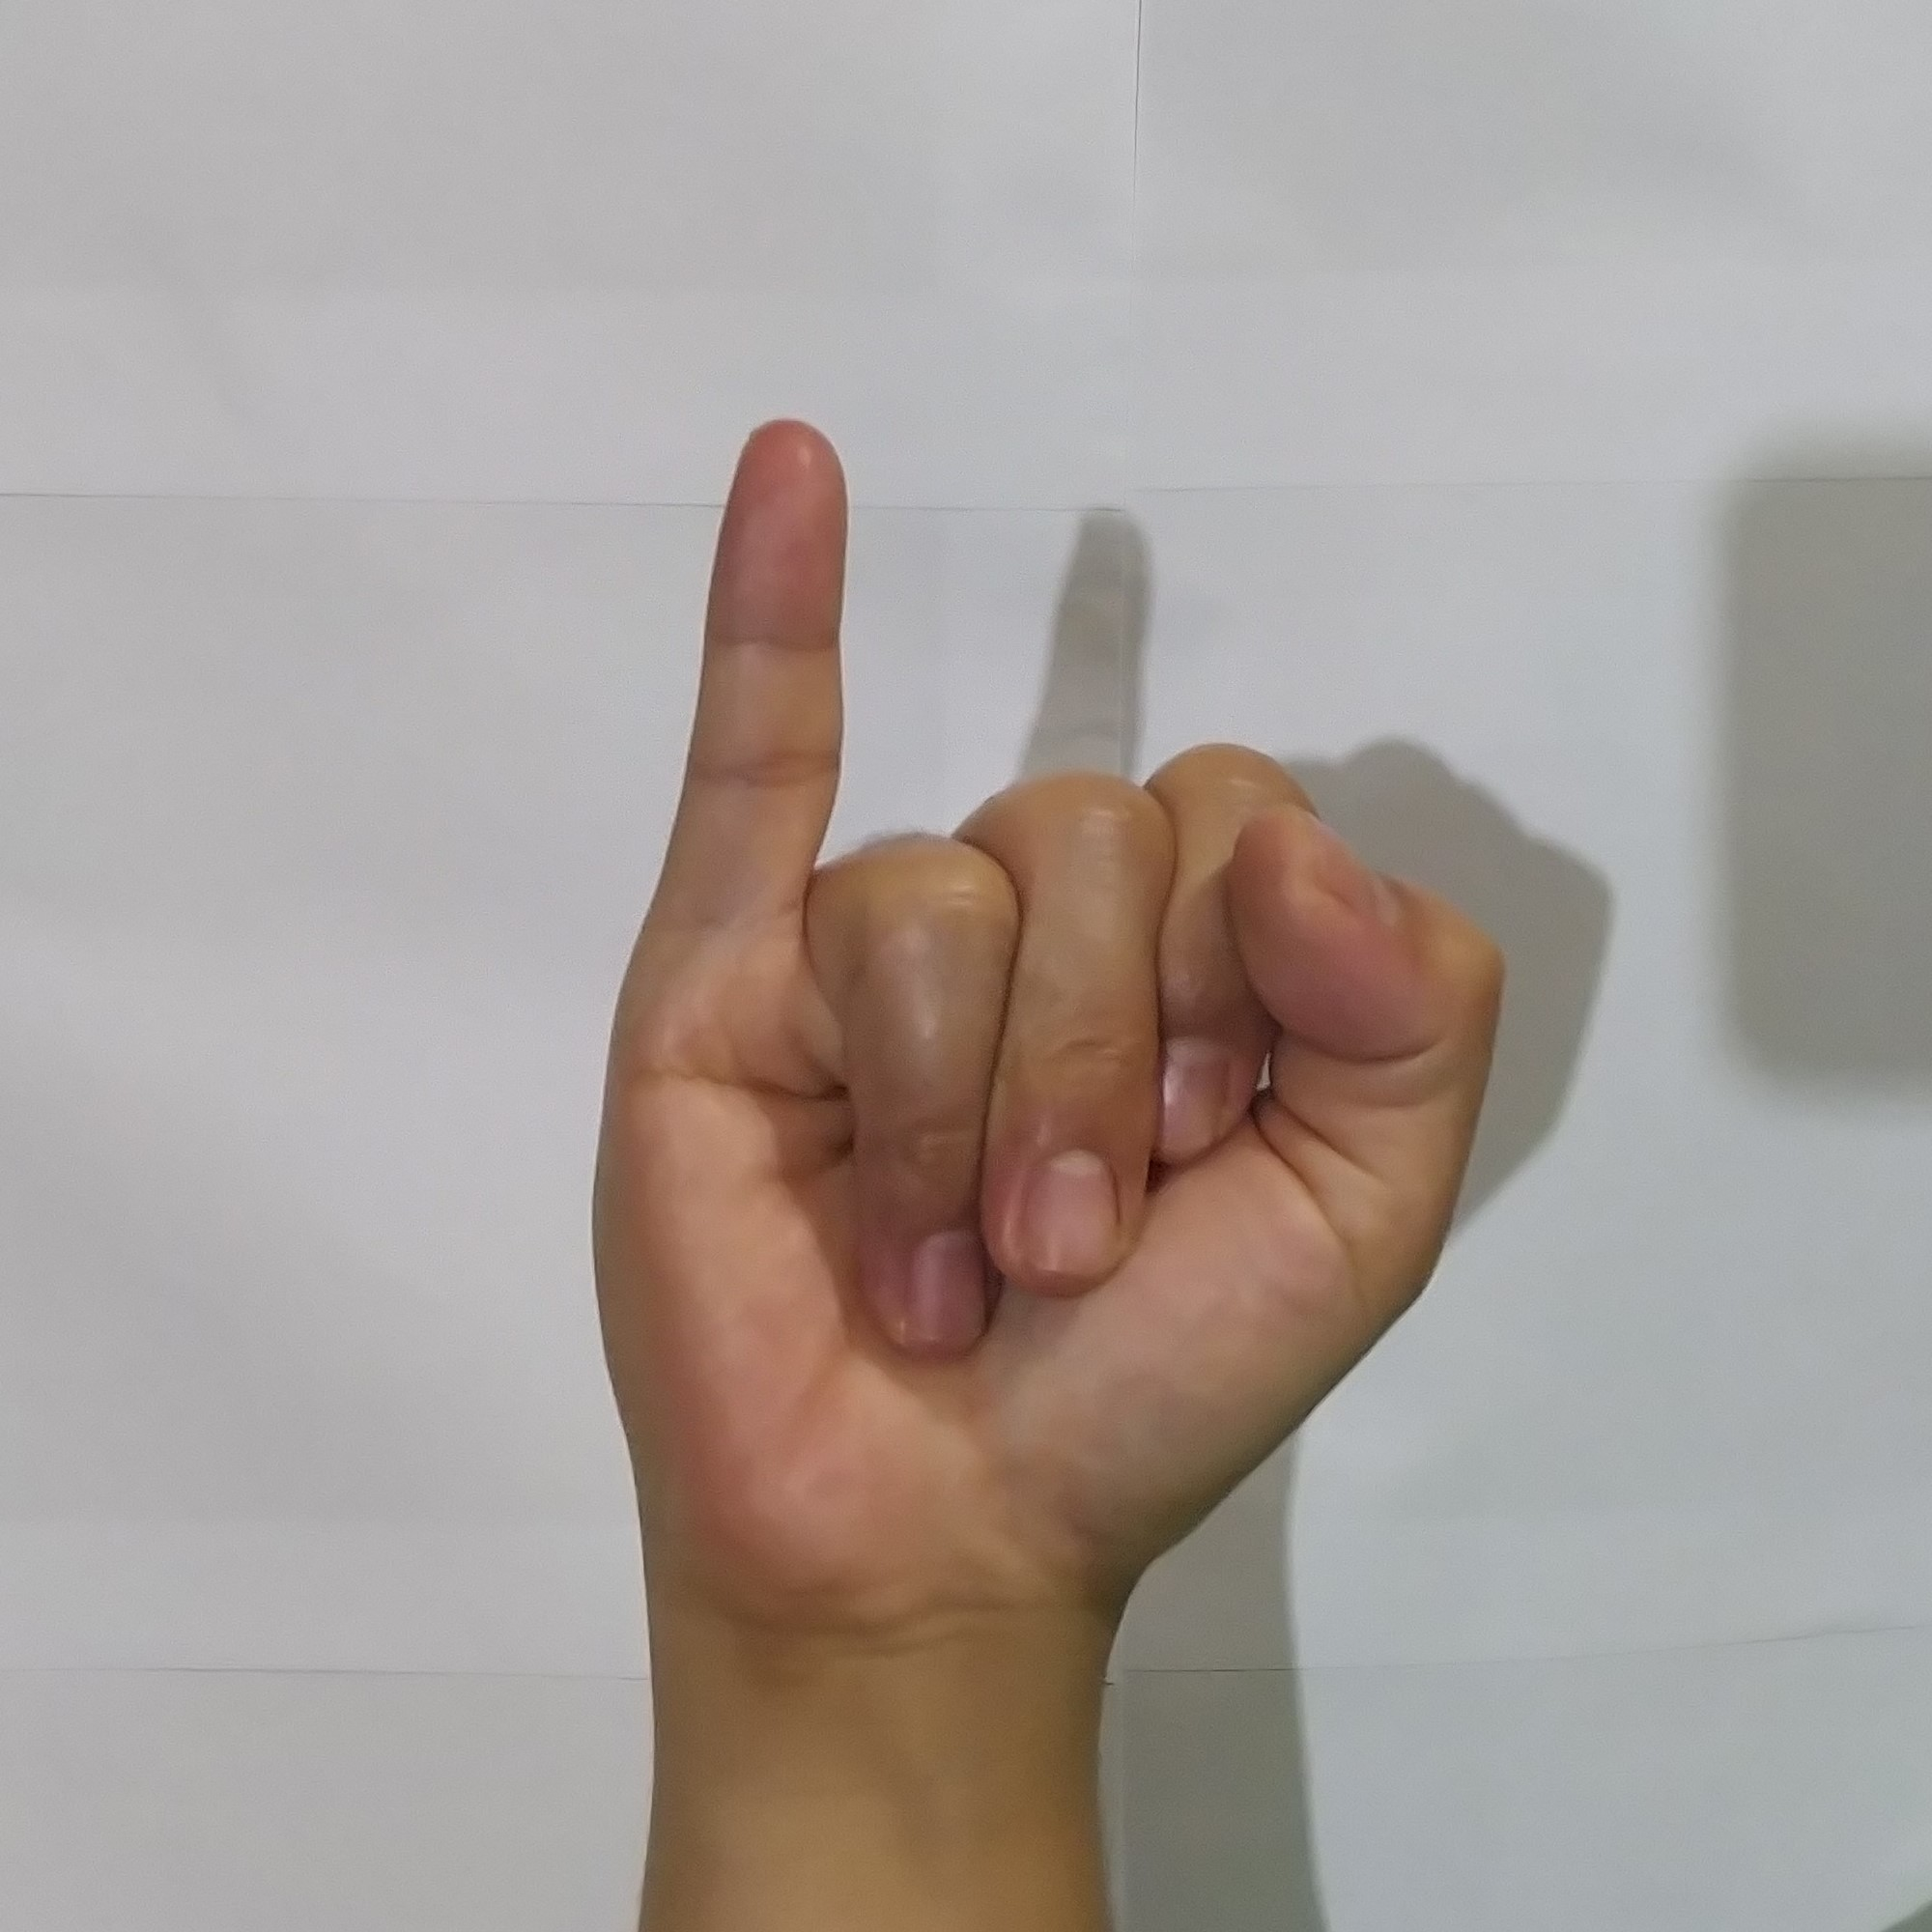I: (568, 398, 1527, 1587)
